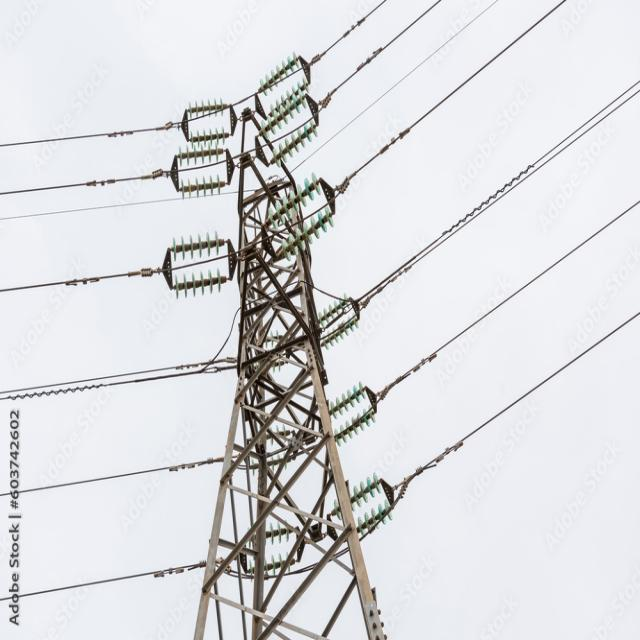insulator: (293, 276, 356, 336), (255, 46, 310, 88), (169, 227, 224, 260), (170, 266, 223, 300), (275, 118, 324, 149), (176, 94, 227, 119), (176, 148, 222, 170)
